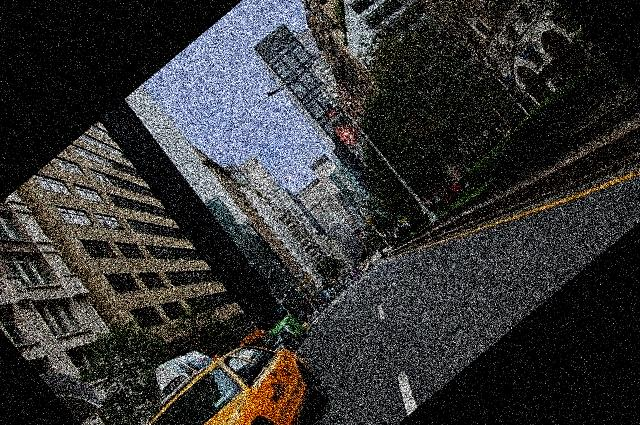taxi: (125, 334, 323, 425)
